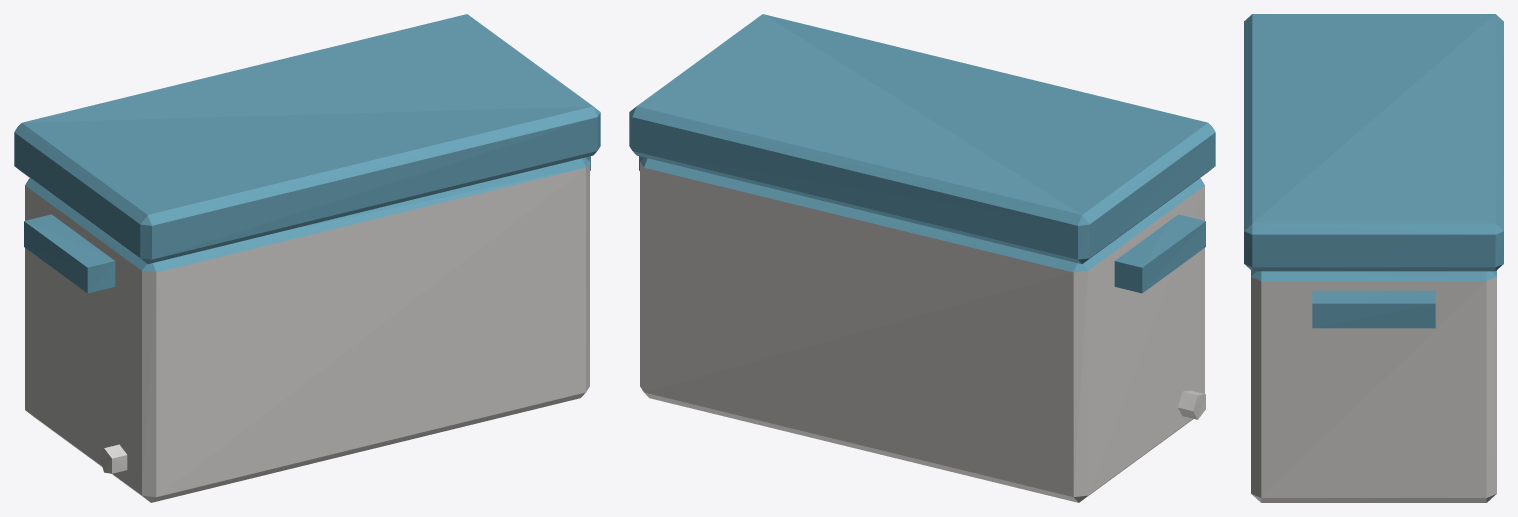
File: cooler-box-00.glb
3 views of the same model, side by side, from view 1: azimuth 30°, elevation 25°; view 2: azimuth 150°, elevation 25°; view 3: azimuth 270°, elevation 25° (orthographic). The views are drawn at different scales.
Parts seen in each view (by area): view 1: cooler_box_00; view 2: cooler_box_00; view 3: cooler_box_00.
Part boxes in pixels (x1,y1,x2,y2): cooler_box_00: (14,14,600,502); cooler_box_00: (629,14,1215,502); cooler_box_00: (1244,14,1503,502).
Bounding box in the file's own units: 0.8189 × 0.4559 × 0.3793.
